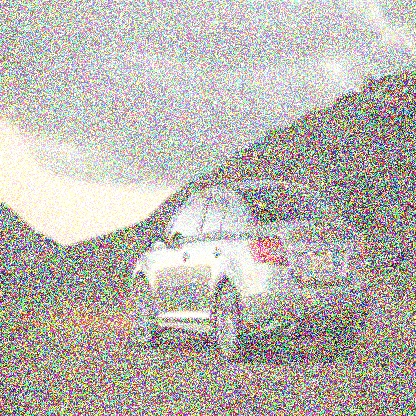Vehicle: (130, 178, 373, 367)
